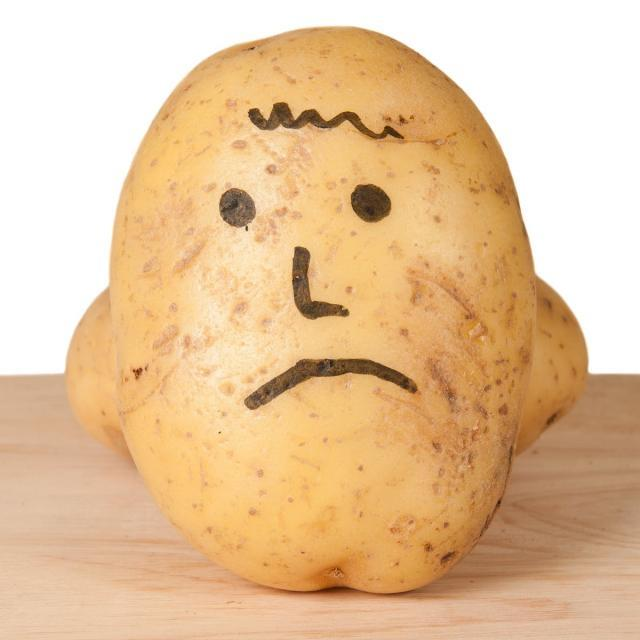Potato: (63, 27, 588, 597)
